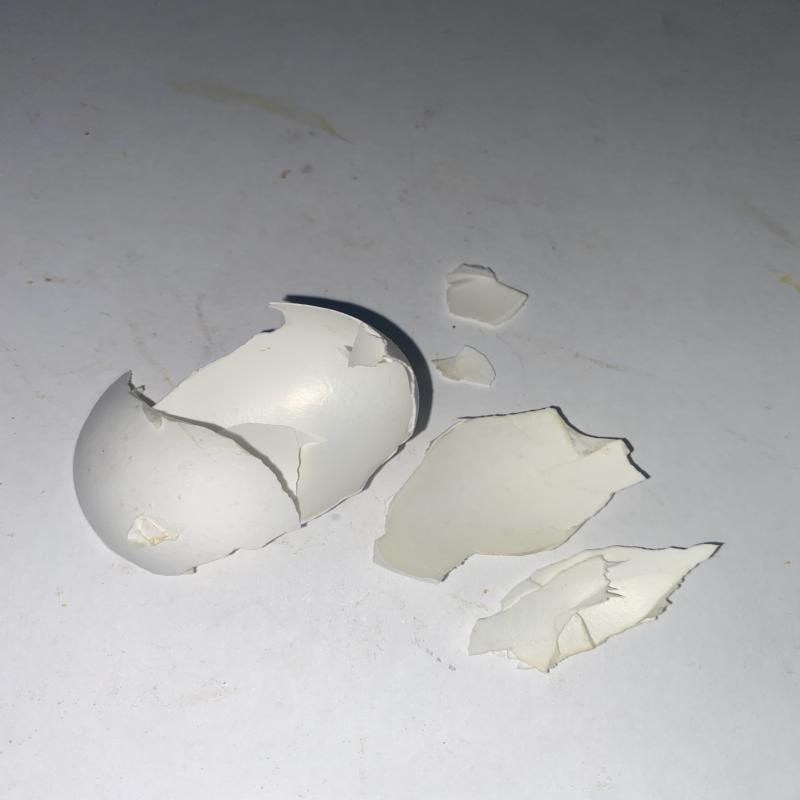egg shell: (72, 302, 418, 578), (371, 406, 650, 586), (466, 544, 725, 677), (446, 263, 528, 326), (430, 348, 498, 387)
